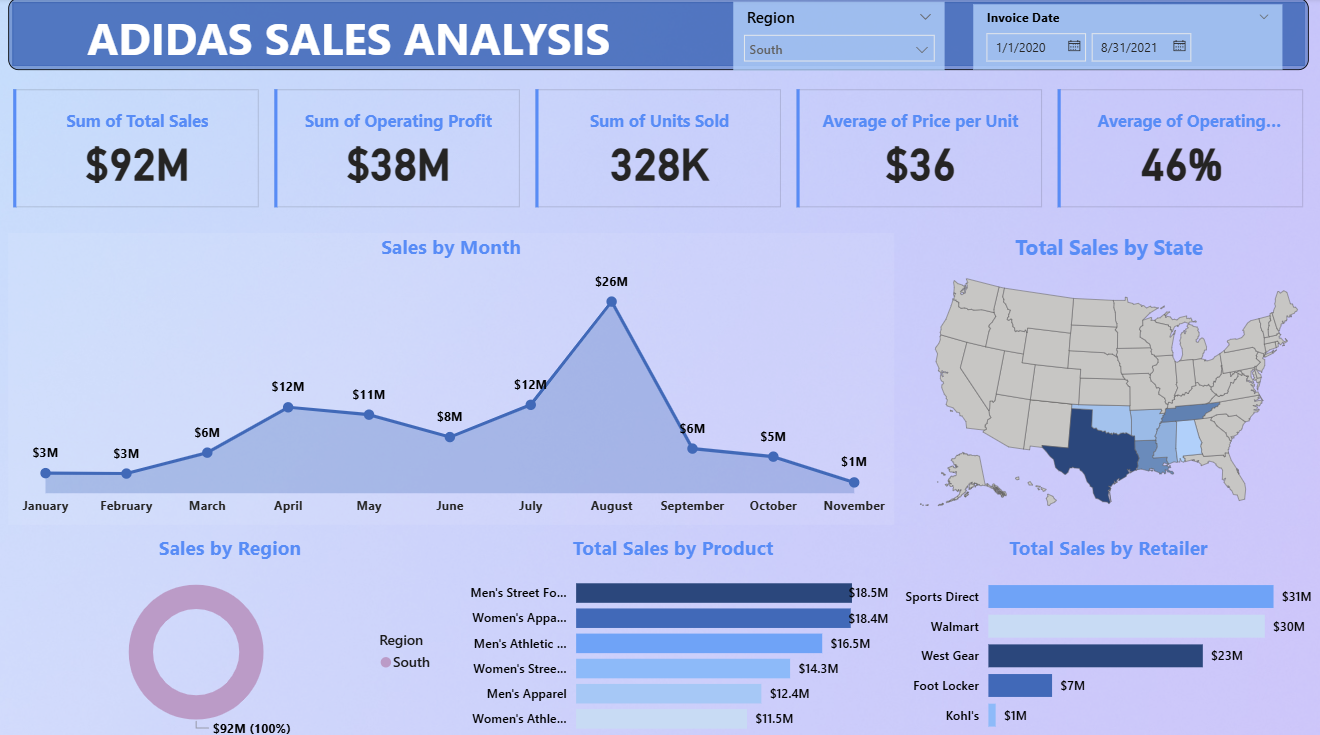

What the dashboard file says about the page in this screenshot:
{"tool":"powerbi","page":{"name":"Page 1","canvas":[1280,720],"ordinal":0},"visuals":[{"type":"shape","box":[11,0,1255.6,70],"z":0},{"type":"textbox","box":[82.3,4.1,531,79.6],"z":1000},{"type":"cardVisual","fields":{"Data":["Sum(Data Sales Adidas.Total Sales)","Sum(Data Sales Adidas.Operating Profit)","Sum(Data Sales Adidas.Units Sold)","Avg(Data Sales Adidas.Price per Unit)","Avg(Data Sales Adidas.Operating Margin)"]},"box":[11,83.7,1255.6,124.9],"z":2000},{"type":"areaChart","title":"Sales by Month","fields":{"Category":["Data Sales Adidas.Invoice Date.Variation.Date Hierarchy.Month"],"Y":["Sum(Data Sales Adidas.Total Sales)"]},"box":[11,226.4,854.9,281.3],"z":3000},{"type":"shapeMap","title":"Total Sales by State","fields":{"Category":["Data Sales Adidas.State"],"Value":["Sum(Data Sales Adidas.Total Sales)"]},"box":[865.9,226.4,414.4,281.3],"z":4000},{"type":"donutChart","title":"Sales by Region","fields":{"Category":["Data Sales Adidas.Region"],"Y":["Sum(Data Sales Adidas.Total Sales)"]},"box":[11,517.3,428.1,203.1],"z":5000},{"type":"barChart","title":"Total Sales by Product","fields":{"Category":["Data Sales Adidas.Product"],"Y":["Sum(Data Sales Adidas.Total Sales)"]},"box":[439.1,517.3,426.8,203.1],"z":6000},{"type":"barChart","title":"Total Sales by Retailer","fields":{"Y":["Sum(Data Sales Adidas.Total Sales)"],"Category":["Data Sales Adidas.Retailer"]},"box":[871.4,517.3,403.4,203.1],"z":7000},{"type":"slicer","fields":{"Values":["Data Sales Adidas.Region"]},"box":[710.5,3.7,204.2,66],"z":8000},{"type":"slicer","fields":{"Values":["Data Sales Adidas.Invoice Date"]},"box":[942.8,6.1,298.4,63.6],"z":9000}]}

Visuals, with their boxes in screenshot pixels (x1, y1, x2, y2), scaled from the page's 1280x720 canvas onto the 1320x735 screenshot:
shape: rect(11, 0, 1306, 71)
textbox: rect(85, 4, 632, 85)
cardVisual - Sum(Data Sales Adidas.Total Sales) x Sum(Data Sales Adidas.Operating Profit): rect(11, 85, 1306, 213)
"Sales by Month" areaChart: rect(11, 231, 893, 518)
"Total Sales by State" shapeMap: rect(893, 231, 1319, 518)
"Sales by Region" donutChart: rect(11, 528, 453, 734)
"Total Sales by Product" barChart: rect(453, 528, 893, 734)
"Total Sales by Retailer" barChart: rect(899, 528, 1315, 734)
slicer - Data Sales Adidas.Region: rect(733, 4, 943, 71)
slicer - Data Sales Adidas.Invoice Date: rect(972, 6, 1280, 71)
